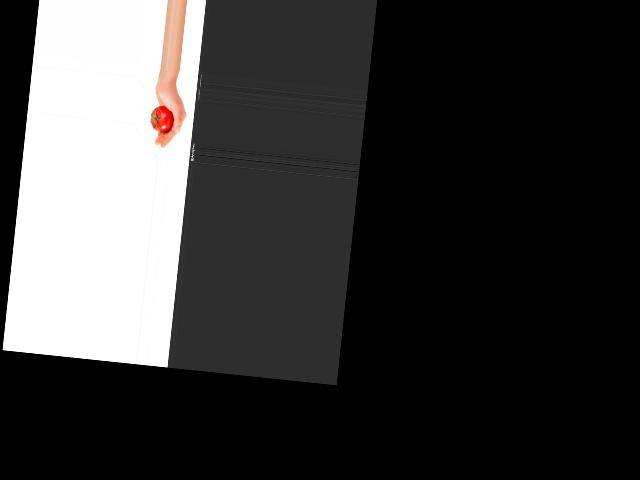tomato: (150, 104, 175, 132)
